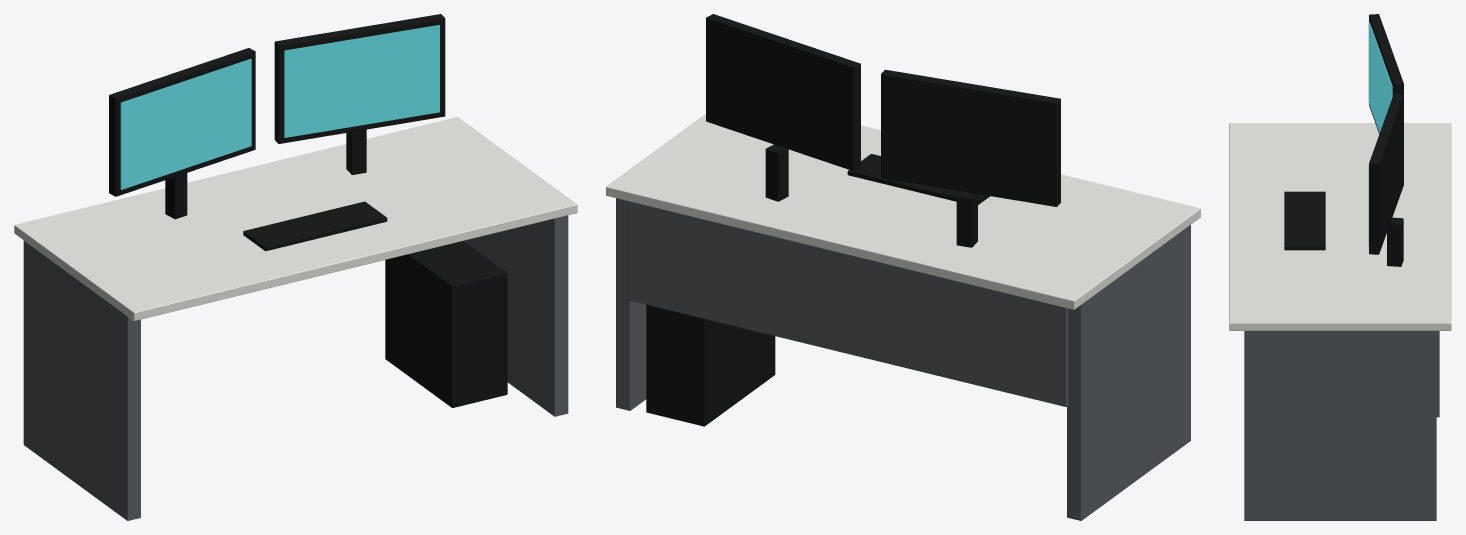
Rendered from PROP_Desk_Workstation_Dual.glb.
3 views of the same model, side by side, from view 1: azimuth 30°, elevation 25°; view 2: azimuth 150°, elevation 25°; view 3: azimuth 270°, elevation 25° (orthographic). The views are drawn at different scales.
Parts seen in each view (by area): view 1: PROP_Desk_Workstation_Dual_Mesh, PROP_Desk_Workstation_Dual_Screens; view 2: PROP_Desk_Workstation_Dual_Mesh; view 3: PROP_Desk_Workstation_Dual_Mesh, PROP_Desk_Workstation_Dual_Screens.
Part boxes in pixels (left/top/right/bottom): PROP_Desk_Workstation_Dual_Mesh: left=14, top=14, right=577, bottom=520; PROP_Desk_Workstation_Dual_Screens: left=120, top=25, right=439, bottom=189; PROP_Desk_Workstation_Dual_Mesh: left=606, top=14, right=1200, bottom=520; PROP_Desk_Workstation_Dual_Mesh: left=1229, top=14, right=1451, bottom=520; PROP_Desk_Workstation_Dual_Screens: left=1368, top=22, right=1392, bottom=246.
Size of what is drawn, in the model's own units: 1.6 by 1.24 by 0.75.
